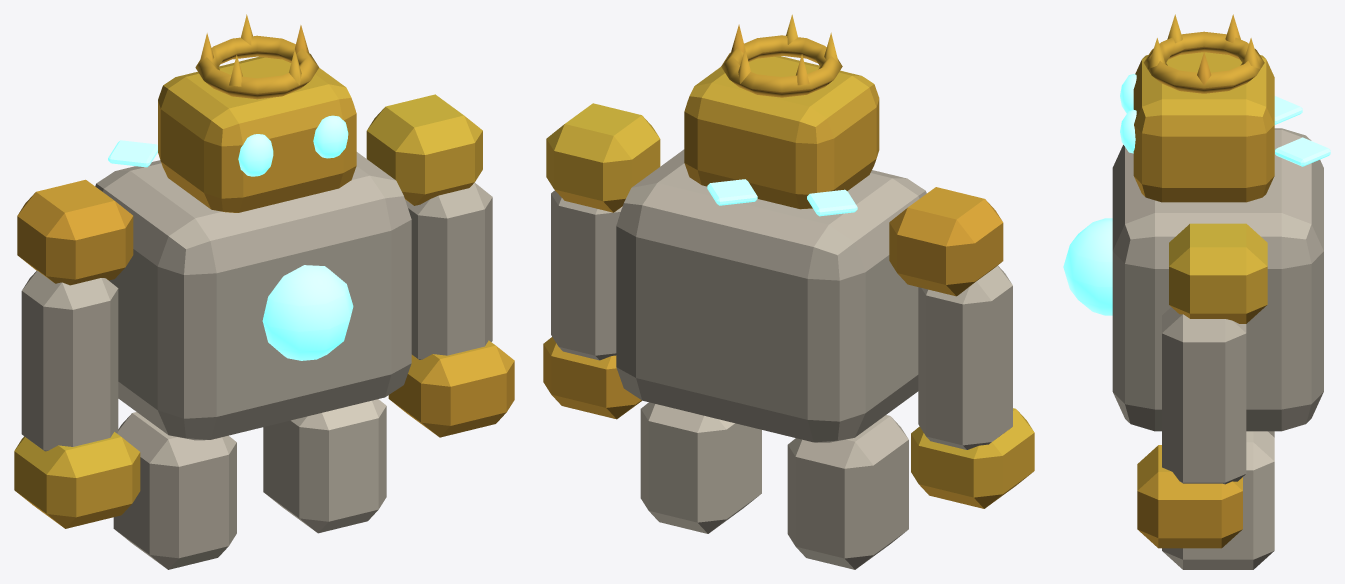
File: monster_colossus.glb
The picture shows the model from 3 angles, left to right: view 1: azimuth 30°, elevation 25°; view 2: azimuth 150°, elevation 25°; view 3: azimuth 270°, elevation 25°; orthographic projection. The views are drawn at different scales.
Parts seen in each view (by area): view 1: body_t0_palette, arml_t0_palette, armr_t0_palette, legl_t0_palette, legr_t0_palette, body_t0_rune; view 2: body_t0_palette, arml_t0_palette, armr_t0_palette, legl_t0_palette, legr_t0_palette, body_t0_rune; view 3: body_t0_palette, armr_t0_palette, body_t0_rune, legr_t0_palette.
Part boxes in pixels (x1,y1,x2,y2): body_t0_palette: (95, 14, 411, 440); arml_t0_palette: (14, 179, 140, 528); armr_t0_palette: (366, 94, 514, 437); legl_t0_palette: (113, 412, 236, 569); legr_t0_palette: (263, 399, 386, 533); body_t0_rune: (108, 115, 353, 360); body_t0_palette: (616, 14, 926, 442); arml_t0_palette: (889, 187, 1034, 508); armr_t0_palette: (543, 103, 660, 419); legl_t0_palette: (787, 415, 908, 569); legr_t0_palette: (640, 402, 761, 533); body_t0_rune: (707, 179, 857, 216); body_t0_palette: (1112, 14, 1323, 431); armr_t0_palette: (1137, 223, 1267, 548); body_t0_rune: (1063, 74, 1330, 315); legr_t0_palette: (1162, 431, 1274, 569).
Bounding box in the file's own units: 0.375 × 0.385 × 0.1898.
